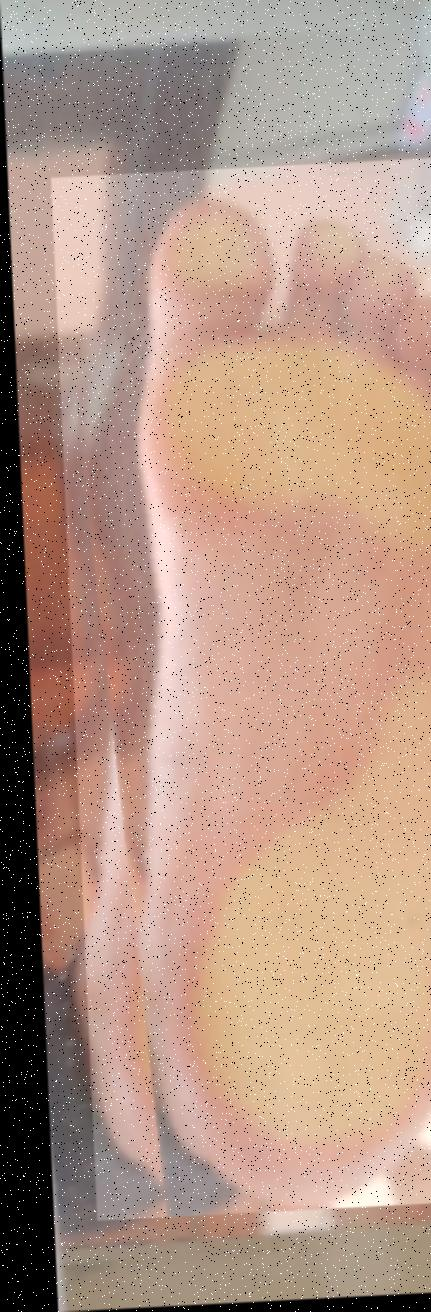Present: (50, 163, 431, 1221)
